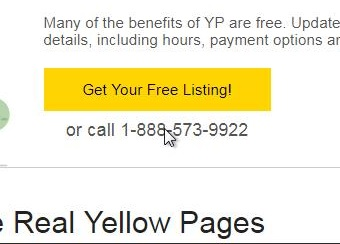cursor: (162, 127, 178, 149)
